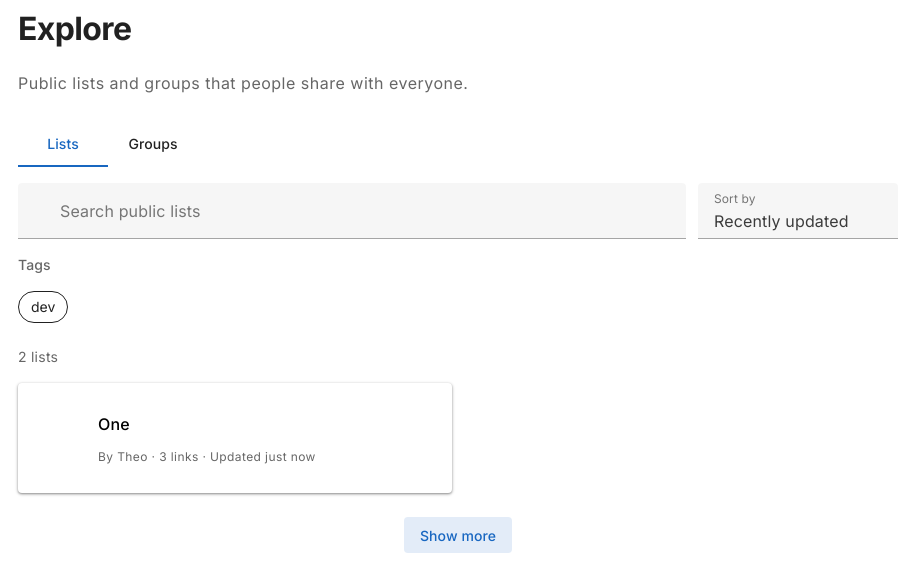
Test: ExploreView › loads the next page on Show more
Click the button "Show more" at [458, 535], box 404,517 -> 512,553
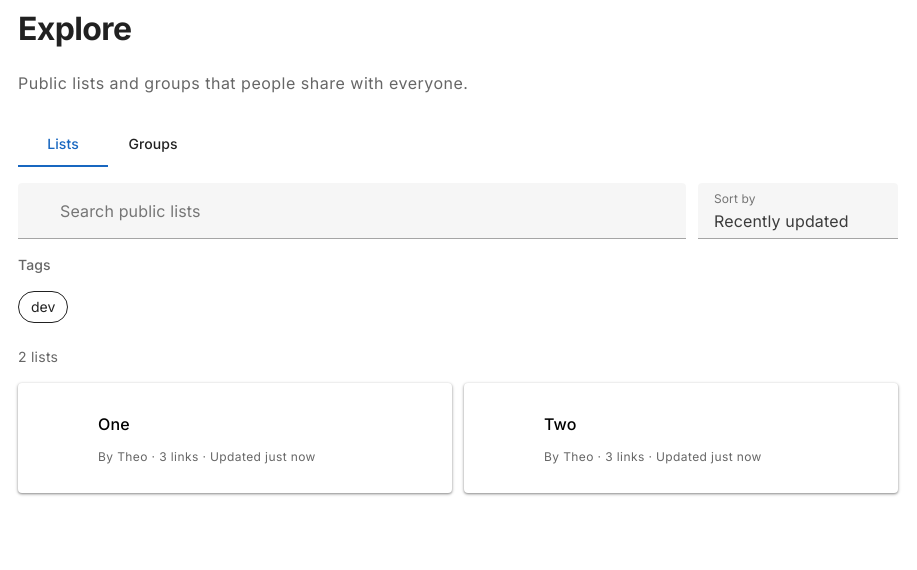
Expected: the text "one" is shown, 18,73 -> 468,93
Expected: the text "Two" is shown, 544,414 -> 577,434
